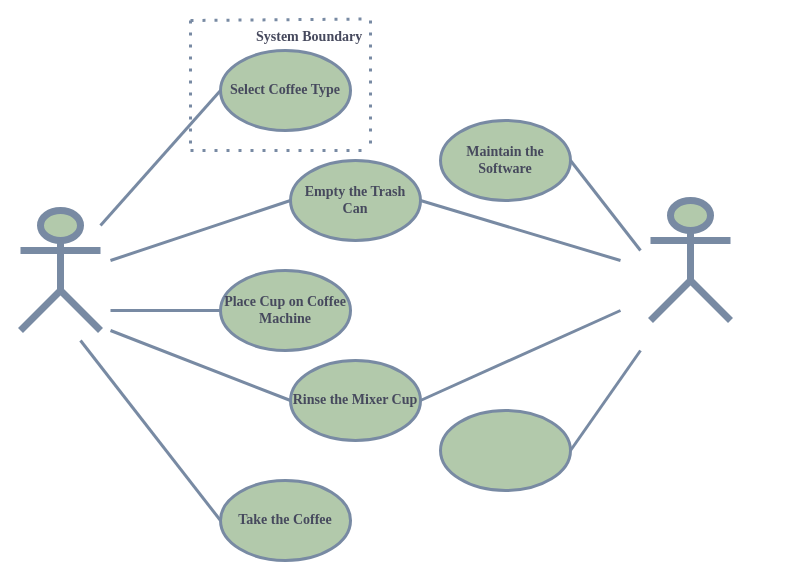
This 791x579 diagram has some shape labels left out. Each missing label, with the centre of its shape:
"Coffee Machine Maintainer" goes at point (690, 260).
"Maintain the Hardware" goes at point (505, 450).
"User" goes at point (60, 270).
